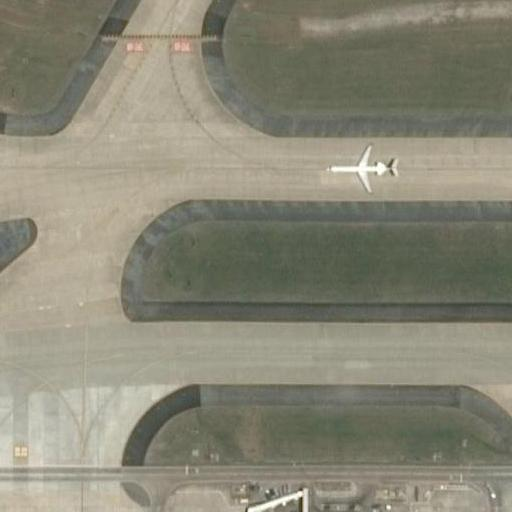Aircraft: (326, 143, 401, 192)
